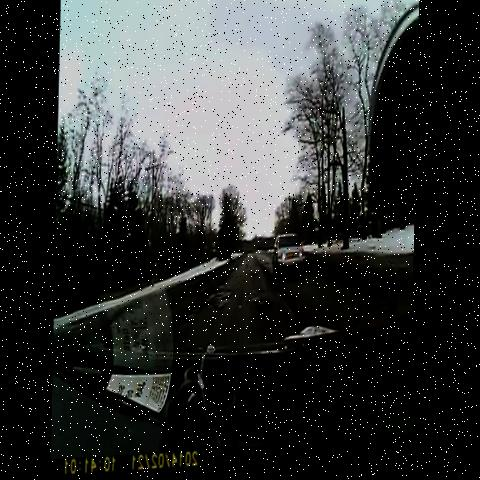pothole: (205, 278, 239, 326), (245, 288, 275, 316), (244, 257, 255, 278)
